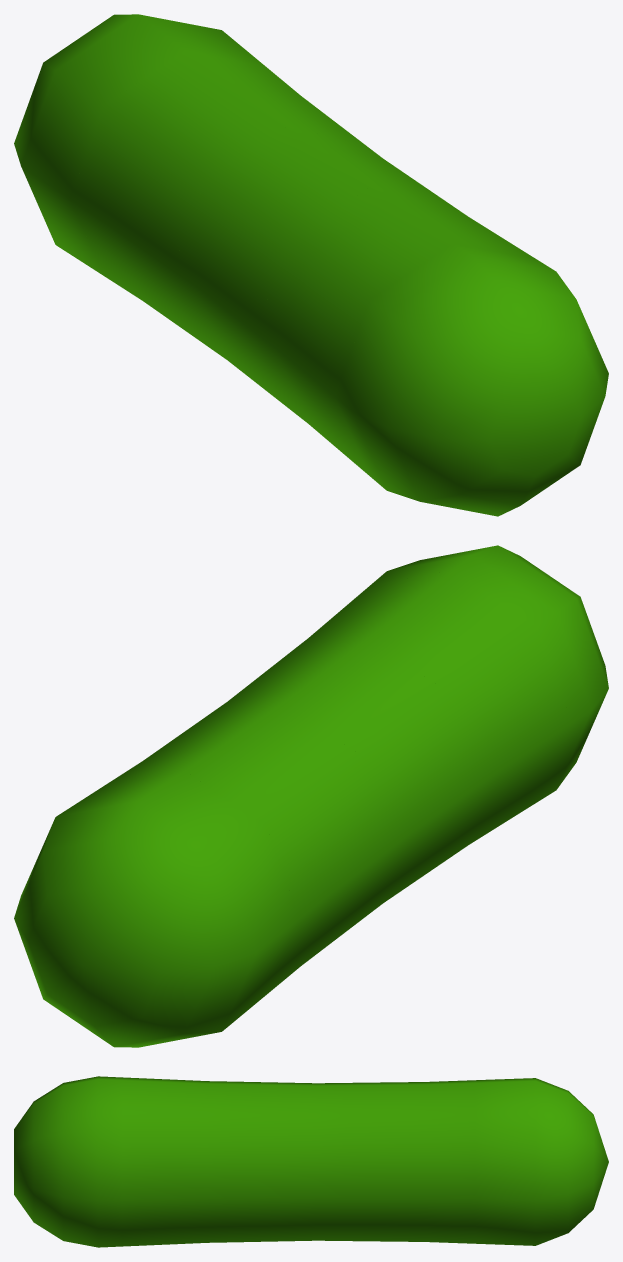
File: SM_Cucumber_CB.fbx
The picture shows the model from 3 angles, top to bottom: view 1: azimuth 30°, elevation 25°; view 2: azimuth 150°, elevation 25°; view 3: azimuth 270°, elevation 25°; orthographic projection. The views are drawn at different scales.
Visible parts, largest first — view 1: Cucumber_Part.001, Cucumber_Part, Cucumber_Part.004, Cucumber_Part.003, Cucumber_Part.002; view 2: Cucumber_Part.002, Cucumber_Part, Cucumber_Part.003, Cucumber_Part.004, Cucumber_Part.001; view 3: Cucumber_Part, Cucumber_Part.002, Cucumber_Part.003, Cucumber_Part.004, Cucumber_Part.001.
Boxes of the visible parts, x1,y1,x2,y2 form: Cucumber_Part.001: (334, 243, 608, 516); Cucumber_Part: (70, 51, 360, 343); Cucumber_Part.004: (172, 127, 447, 407); Cucumber_Part.003: (255, 187, 535, 474); Cucumber_Part.002: (14, 14, 265, 275); Cucumber_Part.002: (14, 770, 299, 1047); Cucumber_Part: (104, 702, 394, 994); Cucumber_Part.003: (289, 570, 571, 858); Cucumber_Part.004: (205, 638, 480, 919); Cucumber_Part.001: (370, 545, 608, 802); Cucumber_Part: (345, 1080, 474, 1243); Cucumber_Part.002: (475, 1078, 608, 1245); Cucumber_Part.003: (122, 1077, 233, 1246); Cucumber_Part.004: (234, 1081, 345, 1242); Cucumber_Part.001: (14, 1076, 122, 1247).
Size of the model in its own units: 29.5 by 29.5 by 96.36.
